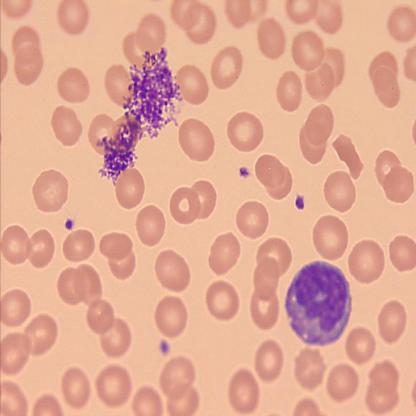Monocyte: (283, 258, 354, 347)
